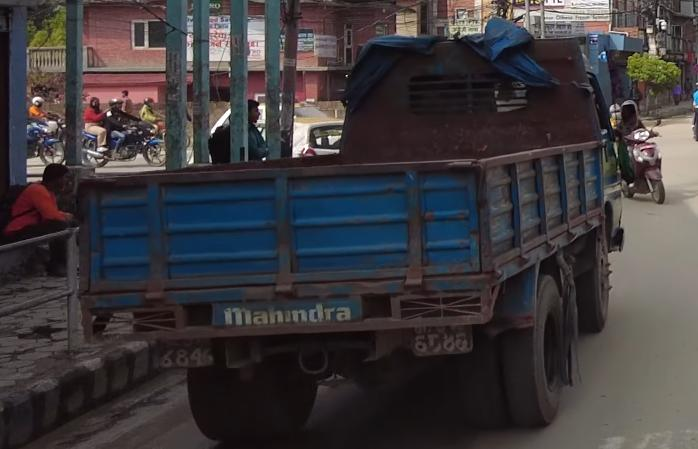bike: (85, 115, 178, 175), (23, 106, 63, 161)
mini_truck: (69, 23, 645, 437)
scooter: (618, 93, 669, 211)
